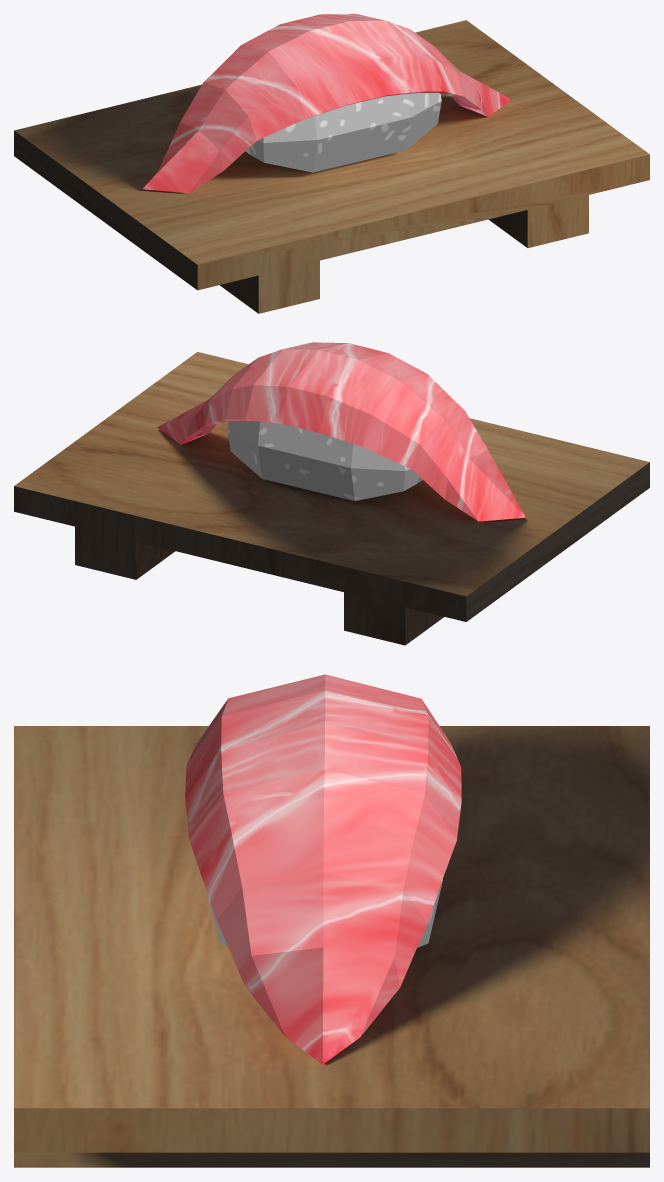
Rendered from sushi_ootoro.glb.
3 renders of one model, top to bottom at view 1: azimuth 30°, elevation 25°; view 2: azimuth 150°, elevation 25°; view 3: azimuth 270°, elevation 25°, orthographic. The views are drawn at different scales.
Parts seen in each view (by area): view 1: geta.vox, ootoro, shari; view 2: geta.vox, ootoro, shari; view 3: geta.vox, ootoro.
Boxes of the visible parts, box(x1,y1,x2,y2) form: geta.vox: box(14, 20, 649, 313); ootoro: box(142, 14, 511, 192); shari: box(245, 93, 441, 172); geta.vox: box(14, 352, 649, 645); ootoro: box(157, 342, 525, 521); shari: box(227, 421, 422, 500); geta.vox: box(14, 726, 649, 1167); ootoro: box(185, 674, 461, 1064).
Bounding box in the file's own units: 3.7 × 1.43 × 2.6.
3 materials, 3 textured.
